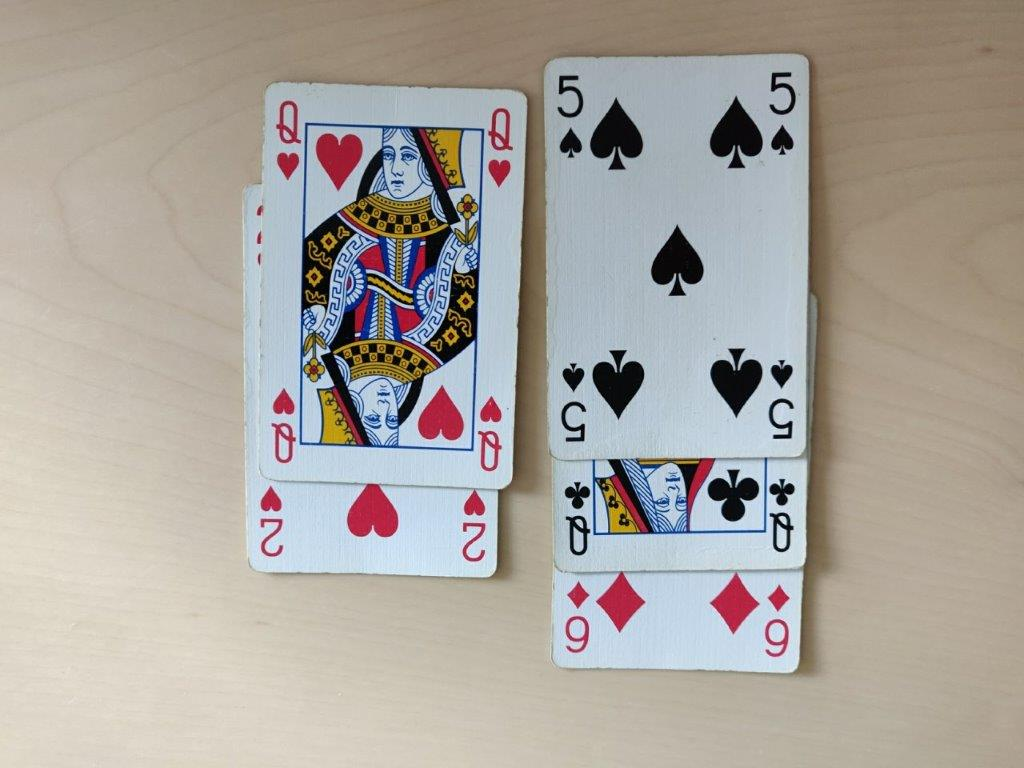2H: (251, 477, 510, 579)
5S: (548, 62, 819, 442)
6D: (551, 570, 808, 678)
QC: (551, 454, 815, 573)
QH: (262, 85, 514, 484)
